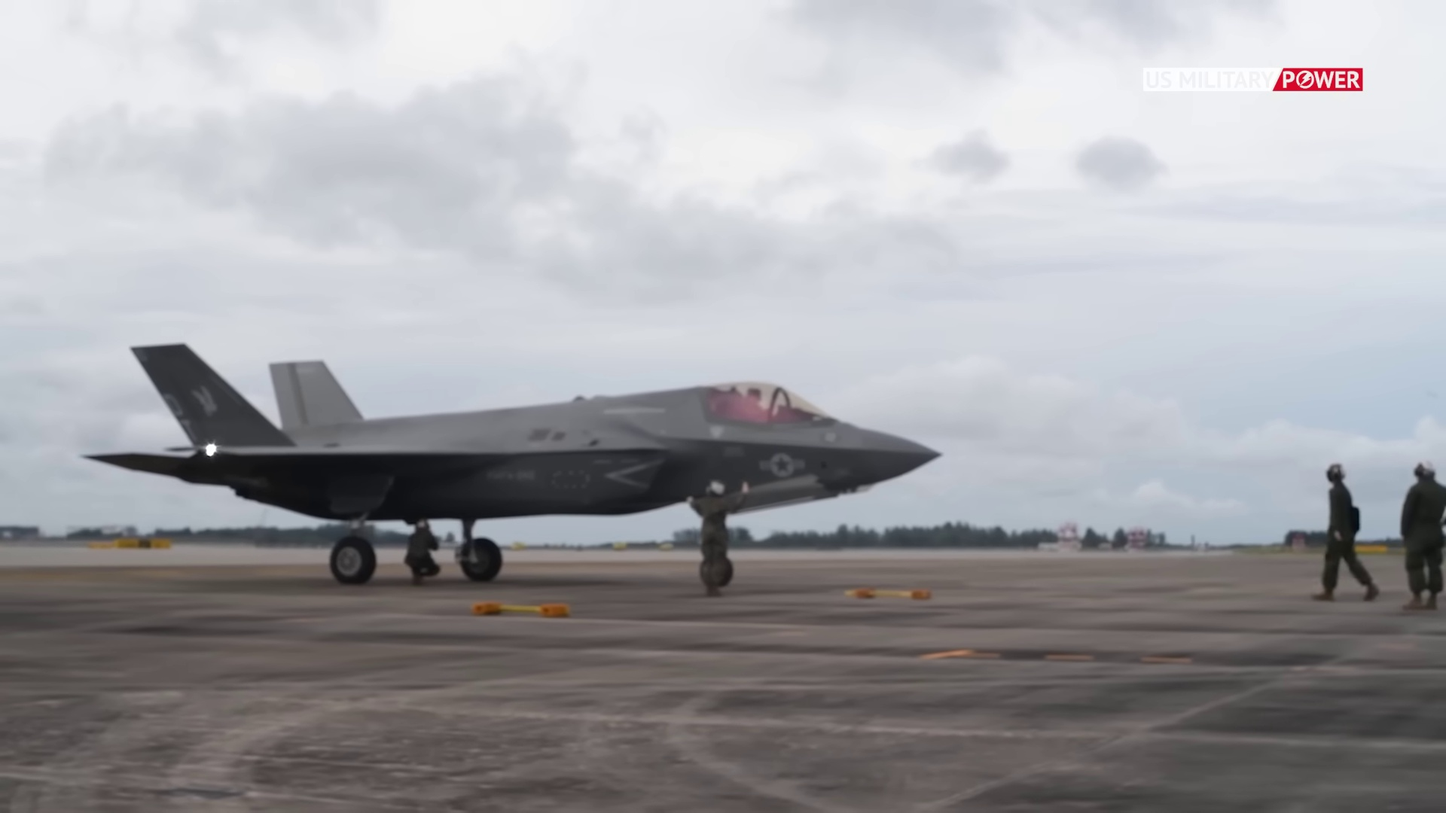F35: (72, 328, 949, 607)
